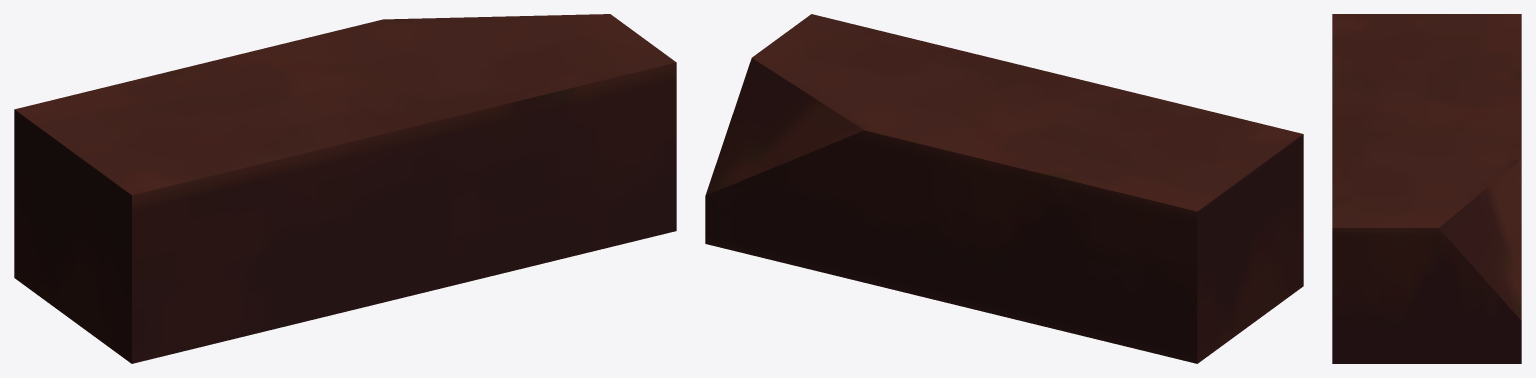
The model's file is zhuankuai2.FBX.
The picture shows the model from 3 angles, left to right: view 1: azimuth 30°, elevation 25°; view 2: azimuth 150°, elevation 25°; view 3: azimuth 270°, elevation 25°; orthographic projection. The views are drawn at different scales.
Parts seen in each view (by area): view 1: zhuankuai02; view 2: zhuankuai02; view 3: zhuankuai02.
Part boxes in pixels (left/top/right/bottom): zhuankuai02: left=14, top=14, right=676, bottom=363; zhuankuai02: left=705, top=14, right=1303, bottom=363; zhuankuai02: left=1332, top=14, right=1521, bottom=363.
Bounding box in the file's own units: 245 × 91.37 × 72.39.
